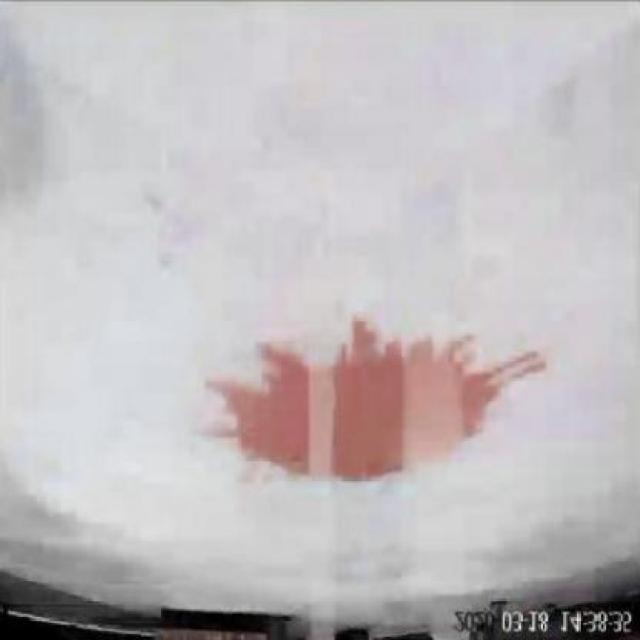spillage: (216, 326, 541, 479)
